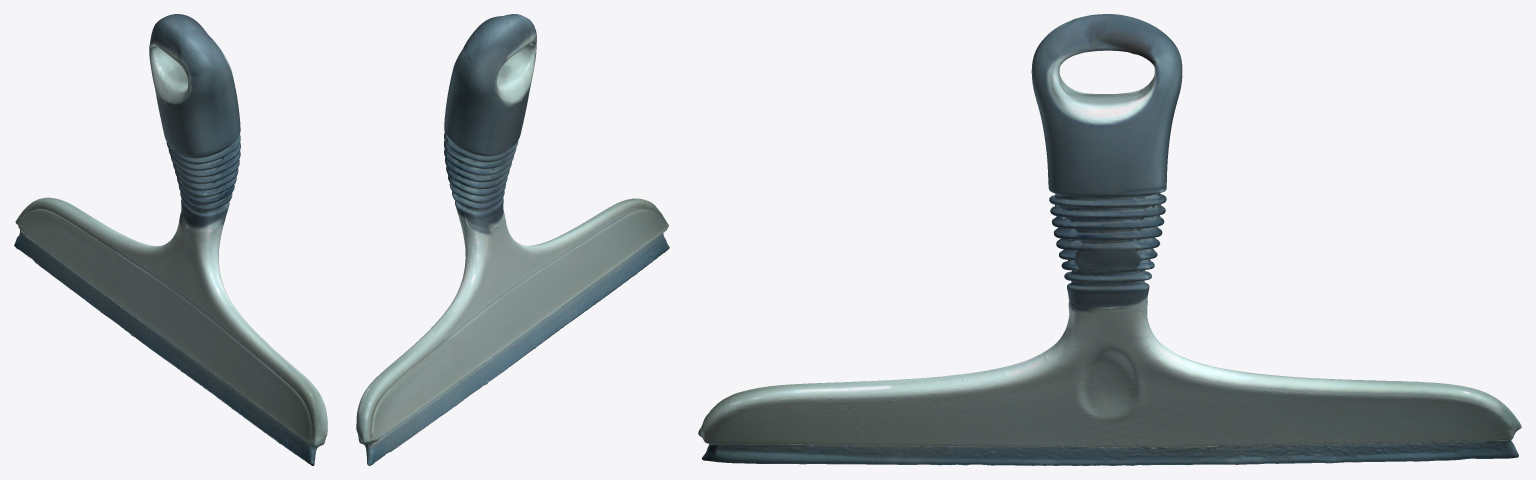
The model's file is cleaned_mesh_10000.obj.
3 views of the same model, side by side, from view 1: azimuth 30°, elevation 25°; view 2: azimuth 150°, elevation 25°; view 3: azimuth 270°, elevation 25° (orthographic). The views are drawn at different scales.
Size of the model in its own units: 0.0325 by 0.1538 by 0.2497.
